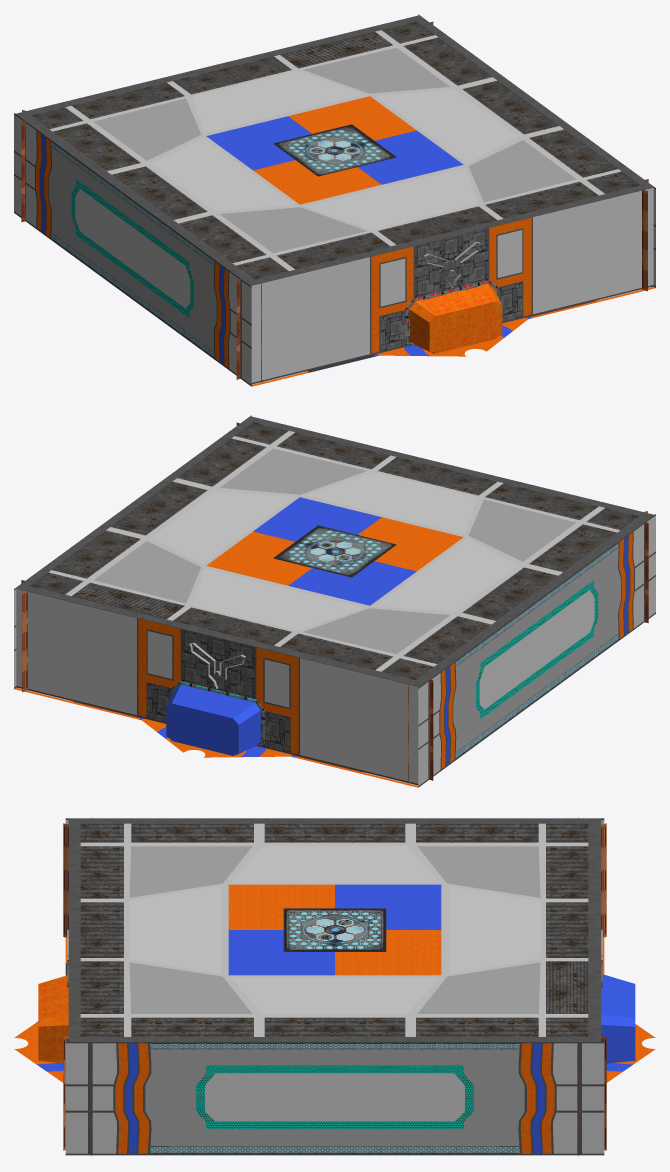
Rendered from Arenas_3vs3.fbx.
3 views of the same model, one above another, from view 1: azimuth 30°, elevation 25°; view 2: azimuth 150°, elevation 25°; view 3: azimuth 270°, elevation 25° (orthographic). The views are drawn at different scales.
Visible parts, largest first — view 1: Top, Walls, Grids, Floor; view 2: Top, Walls, Grids2, Floor; view 3: Top, Walls, Grids2, Grids, Floor.
Boxes of the visible parts, x1=… form: Top: x1=15, y1=15, x2=654, y2=285; Walls: x1=14, y1=14, x2=655, y2=386; Grids: x1=409, y1=284, x2=502, y2=353; Floor: x1=251, y1=286, x2=655, y2=386; Top: x1=15, y1=416, x2=654, y2=686; Walls: x1=14, y1=415, x2=655, y2=787; Grids2: x1=166, y1=684, x2=260, y2=755; Floor: x1=14, y1=687, x2=418, y2=787; Top: x1=68, y1=818, x2=601, y2=1041; Walls: x1=63, y1=817, x2=606, y2=1156; Grids2: x1=601, y1=974, x2=635, y2=1063; Grids: x1=38, y1=975, x2=68, y2=1063; Floor: x1=14, y1=937, x2=655, y2=1082.
Size of the model in its own units: 6368 by 1482 by 7582.
